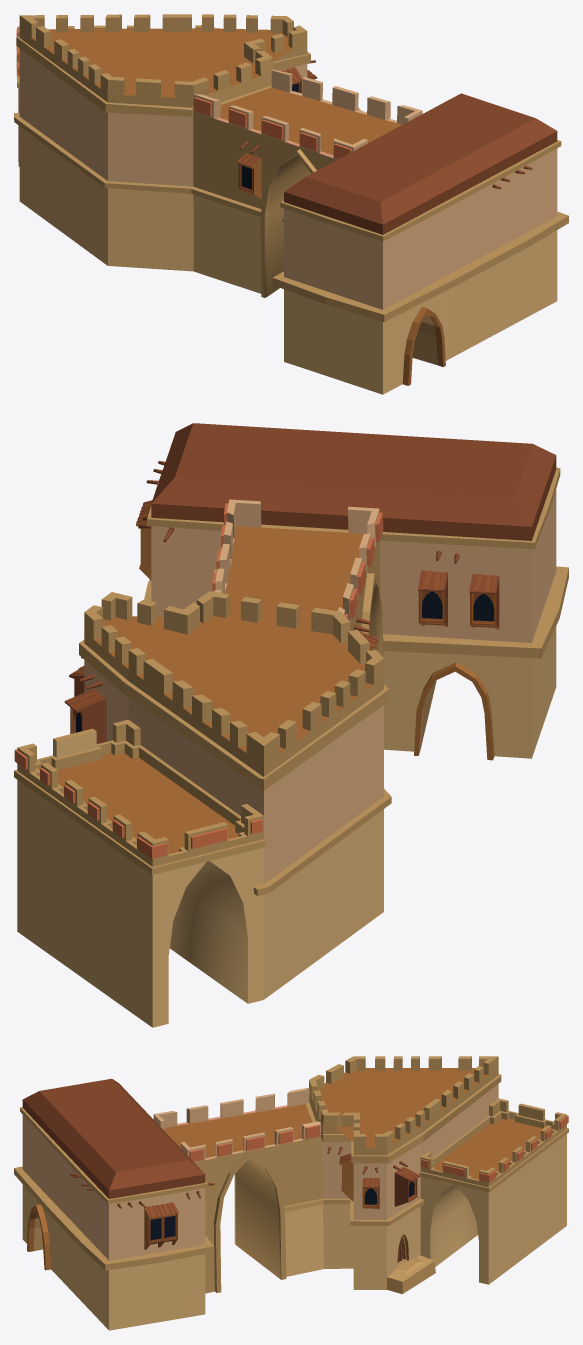
The model's file is arab_house_1.fbx.
3 views of the same model, one above another, from view 1: azimuth 30°, elevation 25°; view 2: azimuth 150°, elevation 25°; view 3: azimuth 270°, elevation 25° (orthographic). The views are drawn at different scales.
Visible parts, largest first — view 1: House; view 2: House; view 3: House.
Part boxes in pixels (x1=…): House: x1=14, y1=14, x2=568, y2=394; House: x1=14, y1=423, x2=568, y2=1027; House: x1=14, y1=1056, x2=568, y2=1330.
Bounding box in the file's own units: 2684 × 1517 × 4970.
9 materials, 9 textured.
